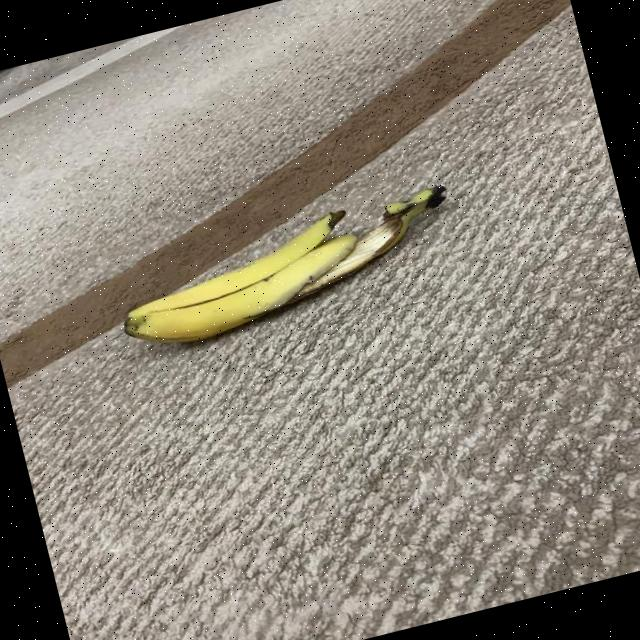banana-peel: (106, 179, 466, 358)
